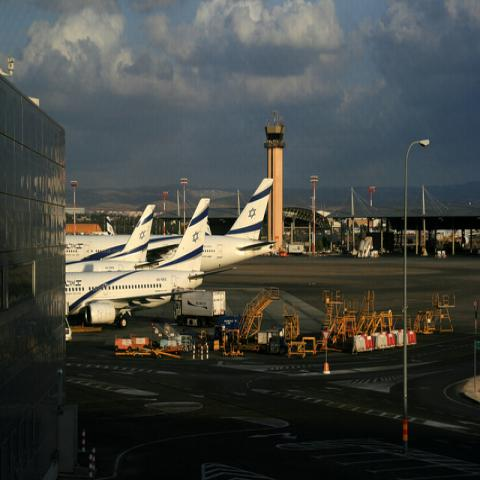truck: (173, 291, 226, 327), (160, 334, 194, 353), (115, 334, 149, 352), (288, 245, 308, 255), (198, 329, 213, 342)
